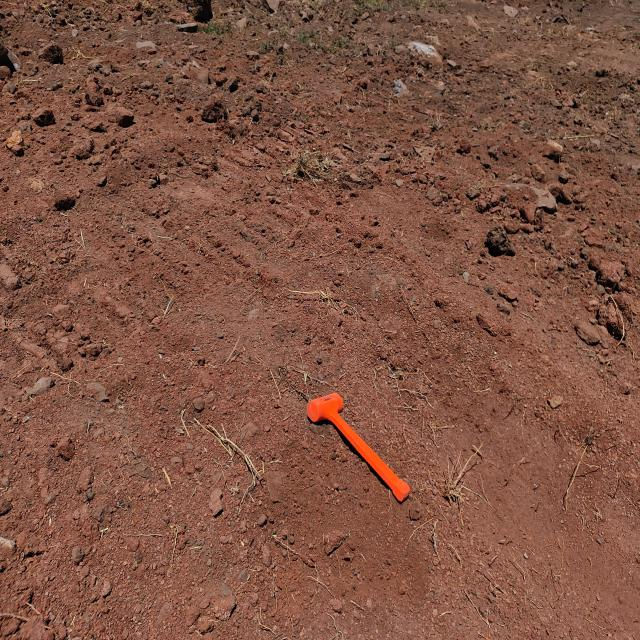Orange_hammer: (306, 392, 411, 504)
